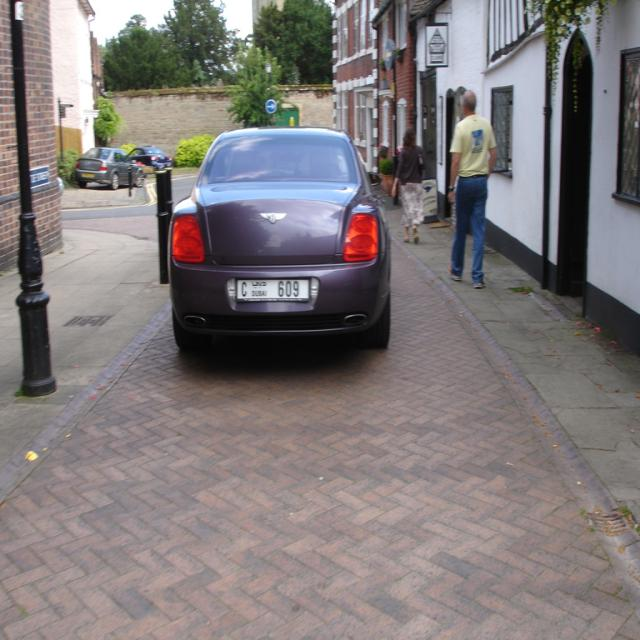car: (166, 123, 390, 349)
